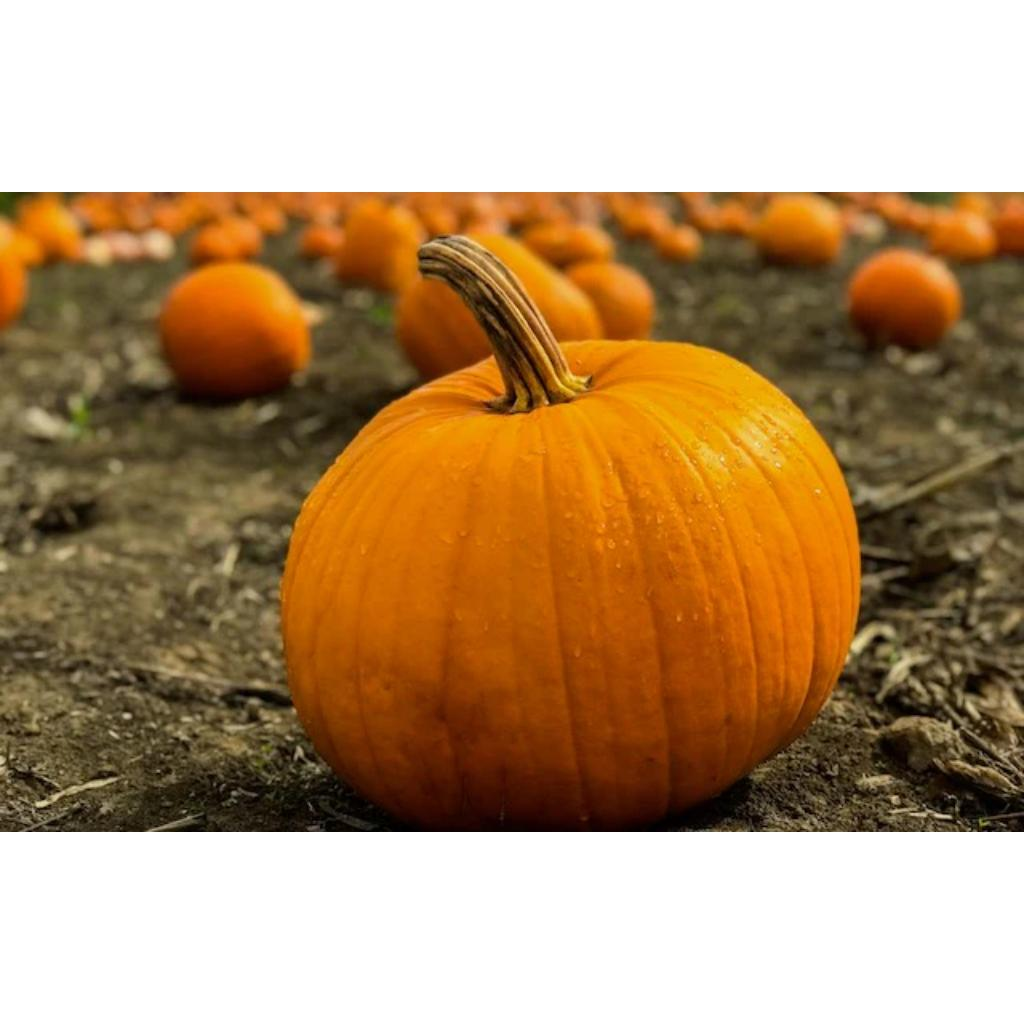pumpkin: (282, 238, 860, 827), (160, 262, 310, 398), (470, 236, 604, 340), (848, 248, 960, 347), (398, 278, 490, 379), (336, 200, 426, 291), (566, 262, 654, 339), (754, 194, 842, 265), (610, 198, 702, 261), (1, 218, 44, 329), (16, 194, 82, 261), (524, 220, 612, 267), (928, 210, 998, 262), (190, 216, 262, 264), (152, 192, 234, 233), (678, 192, 756, 235), (152, 192, 224, 235), (496, 192, 570, 229), (872, 192, 936, 233), (688, 200, 756, 235), (238, 192, 286, 235), (0, 250, 26, 329), (70, 192, 122, 231), (460, 192, 508, 233), (654, 224, 702, 261), (994, 198, 1024, 255), (842, 206, 886, 241), (300, 224, 344, 258), (117, 192, 154, 231), (152, 200, 192, 235), (562, 192, 604, 225), (418, 204, 458, 236), (250, 202, 286, 235), (824, 192, 877, 212), (955, 192, 993, 219), (957, 192, 994, 219), (272, 192, 306, 217), (734, 192, 773, 213)
